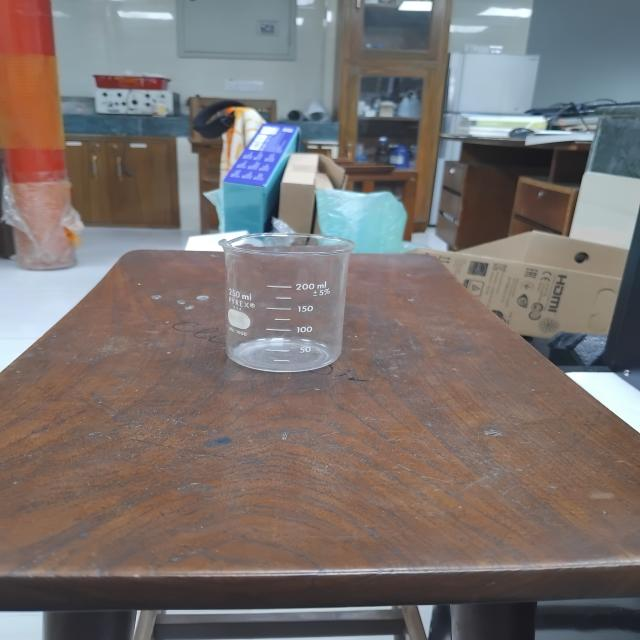Beaker: (184, 214, 384, 385)
